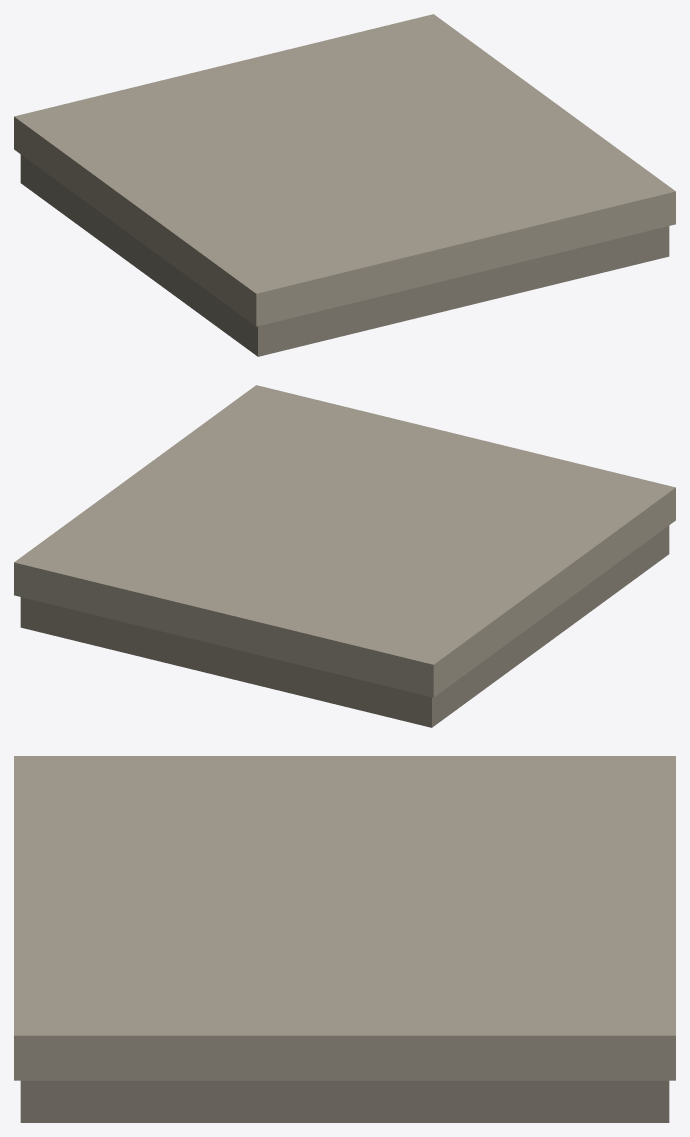
3 renders of one model, top to bottom at view 1: azimuth 30°, elevation 25°; view 2: azimuth 150°, elevation 25°; view 3: azimuth 270°, elevation 25°, orthographic. The views are drawn at different scales.
Visible parts, largest first — view 1: village-stone-foundation-2m-01; view 2: village-stone-foundation-2m-01; view 3: village-stone-foundation-2m-01.
Boxes of the visible parts, box(x1,y1,x2,y2) form: village-stone-foundation-2m-01: box(14, 14, 675, 356); village-stone-foundation-2m-01: box(14, 385, 675, 727); village-stone-foundation-2m-01: box(14, 756, 675, 1122).
Size of the model in its own units: 2 by 0.3 by 2.
